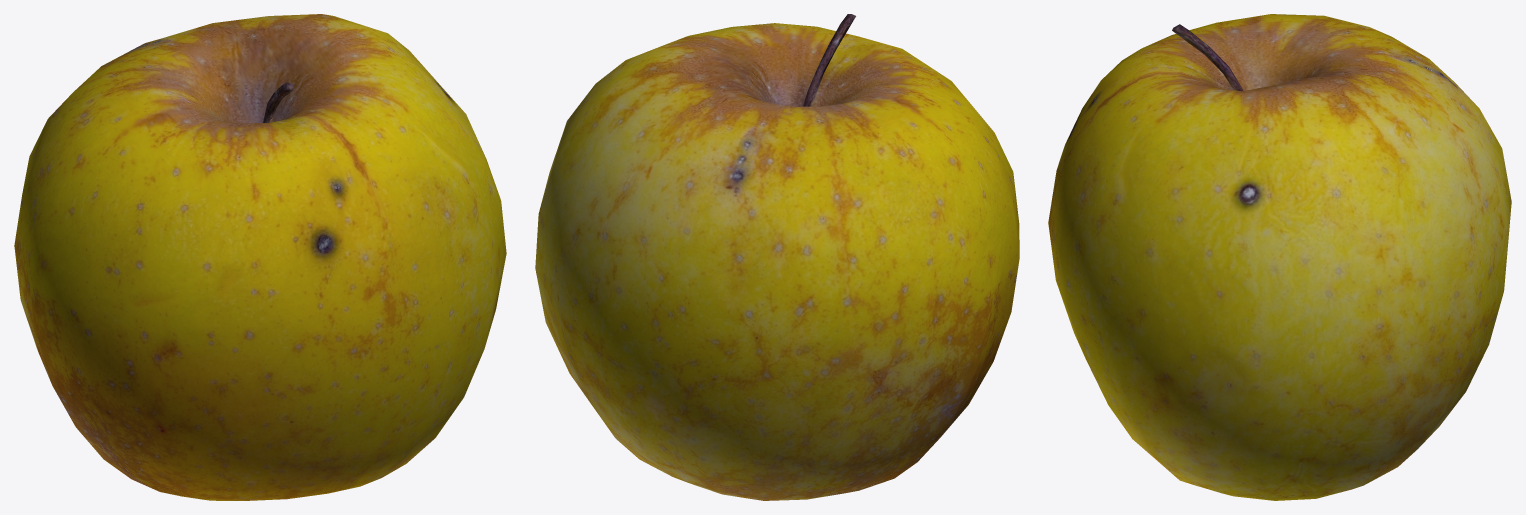
Rendered from A81_Apple_low.fbx.
The picture shows the model from 3 angles, left to right: view 1: azimuth 30°, elevation 25°; view 2: azimuth 150°, elevation 25°; view 3: azimuth 270°, elevation 25°; orthographic projection. The views are drawn at different scales.
Parts seen in each view (by area): view 1: A81_Apple_low; view 2: A81_Apple_low; view 3: A81_Apple_low.
Part boxes in pixels (box(x1,y1,x2,y2)): A81_Apple_low: box(14, 14, 506, 500); A81_Apple_low: box(535, 14, 1019, 500); A81_Apple_low: box(1048, 14, 1511, 500).
Size of the model in its own units: 7.89 by 7.42 by 7.42.
1 material, 1 textured.
